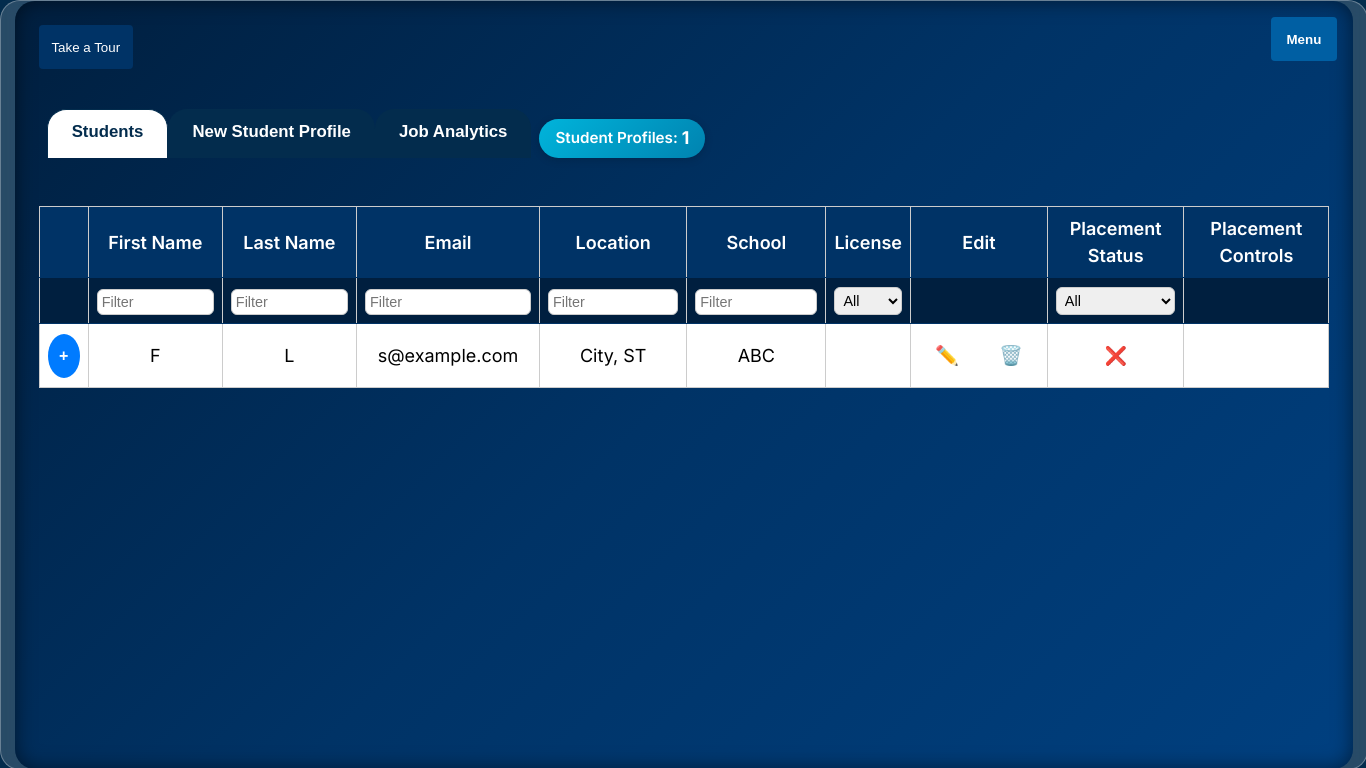
Test: loads jobs on demand when expanding a student
Expected: the text "Job 1" is not shown
Click the button titled "Expand" at (64, 356), box [48,334,80,378]
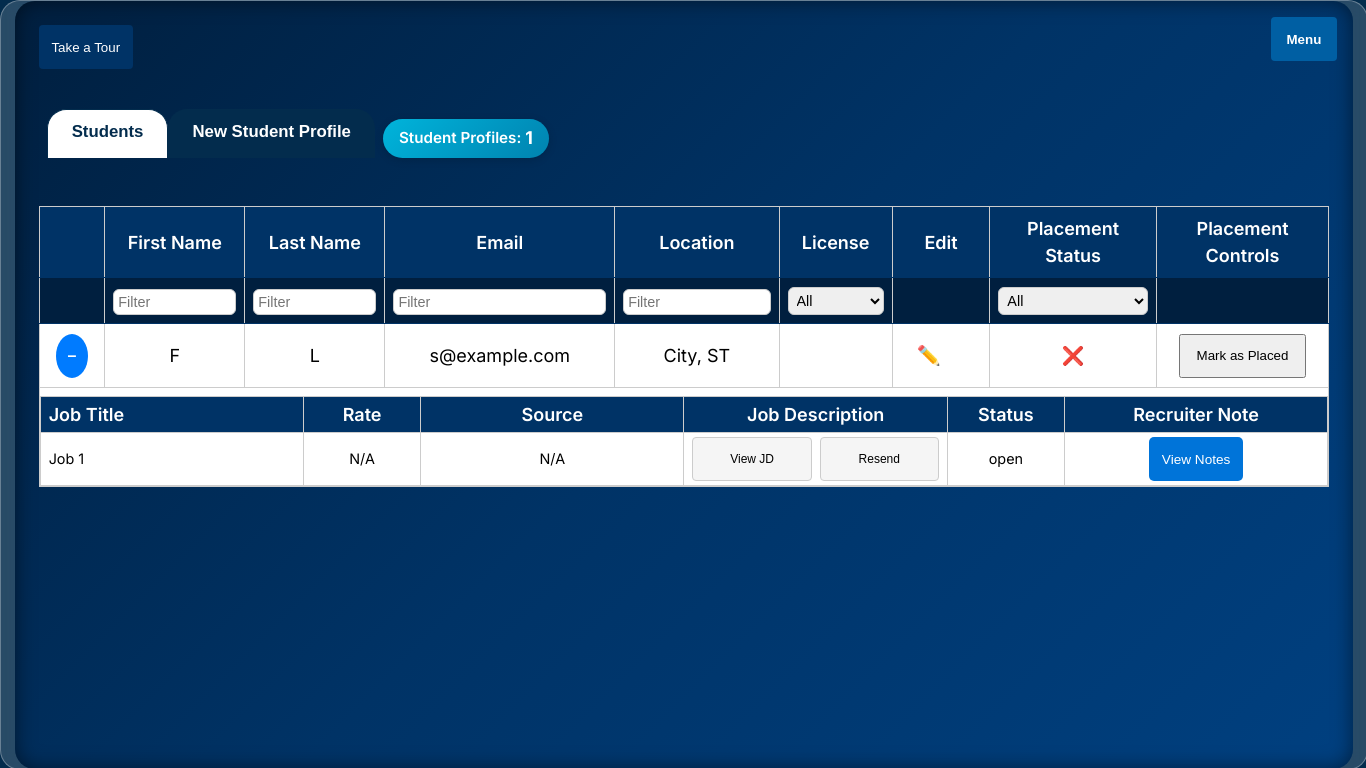
Expected: the text "Job 1" is shown, [40,432,304,486]
